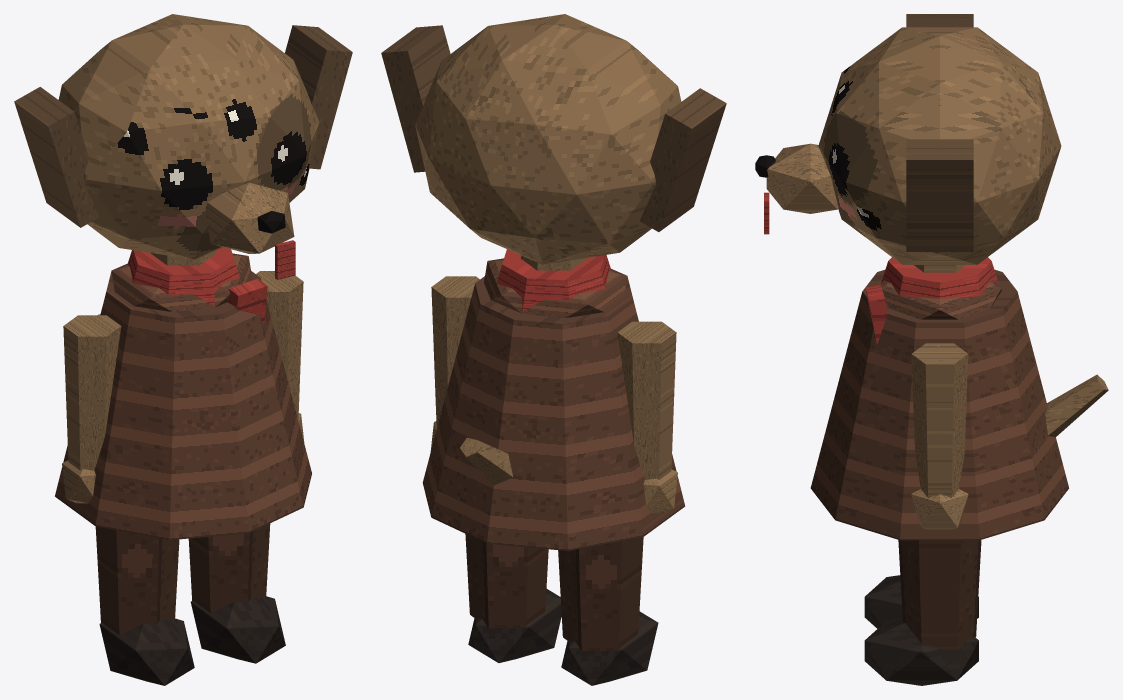
File: pike.glb
The picture shows the model from 3 angles, left to right: view 1: azimuth 30°, elevation 25°; view 2: azimuth 150°, elevation 25°; view 3: azimuth 270°, elevation 25°; orthographic projection. The views are drawn at different scales.
Visible parts, largest first — view 1: head, torso, leg-left, leg-right, arm-left, arm-right; view 2: head, torso, leg-left, leg-right, arm-left, arm-right, tail; view 3: head, torso, leg-right, arm-right, tail, leg-left.
Part boxes in pixels (x1,y1,x2,y2): head: [14, 14, 352, 279]; torso: [55, 247, 311, 540]; leg-left: [95, 526, 194, 685]; leg-right: [188, 523, 285, 663]; arm-left: [62, 315, 121, 503]; arm-right: [256, 271, 304, 442]; head: [381, 14, 726, 264]; torso: [422, 249, 685, 550]; leg-left: [558, 537, 658, 685]; leg-right: [465, 534, 561, 662]; arm-left: [617, 321, 677, 513]; arm-right: [430, 276, 479, 451]; tail: [460, 437, 513, 485]; head: [755, 14, 1061, 264]; torso: [810, 257, 1068, 540]; leg-right: [864, 540, 981, 685]; arm-right: [911, 343, 968, 529]; tail: [1045, 374, 1108, 437]; leg-left: [864, 575, 978, 628].
Bounding box in the file's own units: 0.6682 × 1.34 × 0.6835.
1 material, 1 textured.
